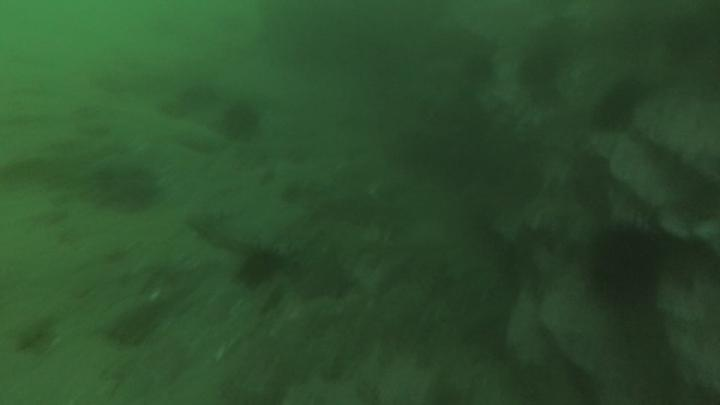echinus: (595, 234, 660, 307), (591, 90, 634, 127), (240, 250, 279, 287), (223, 104, 258, 138), (521, 58, 558, 87)
